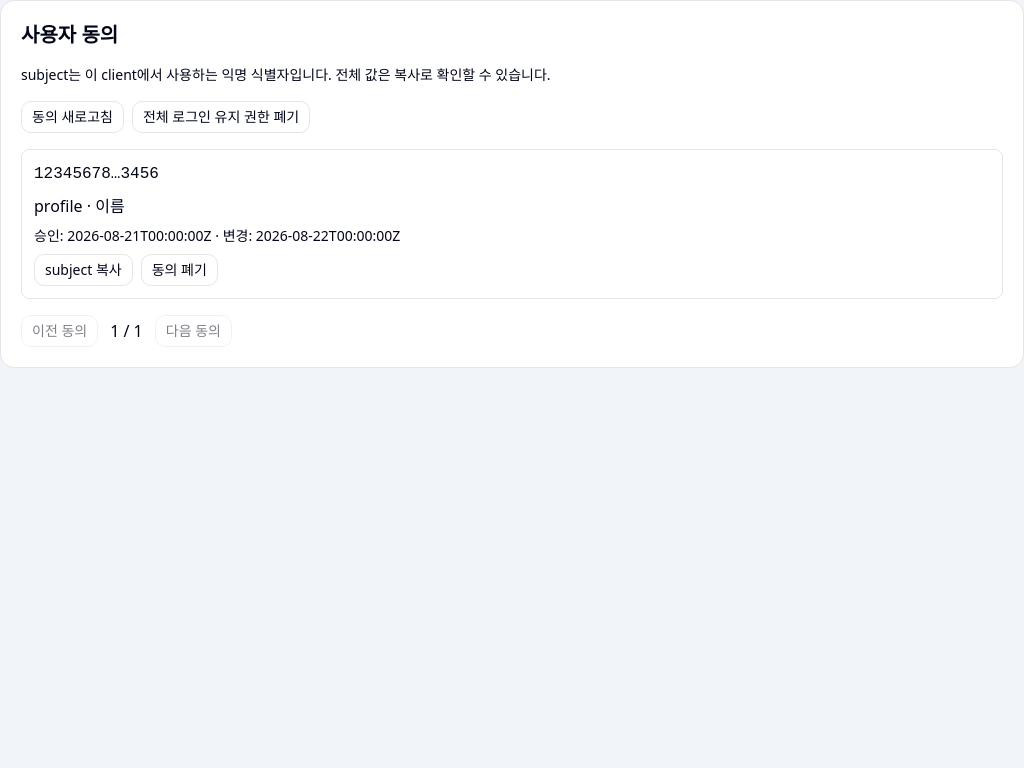
it: keeps failed revocation retryable and never displays raw error details
Step 1. Click the button "동의 폐기" → [179, 270], box 141,254 -> 218,286
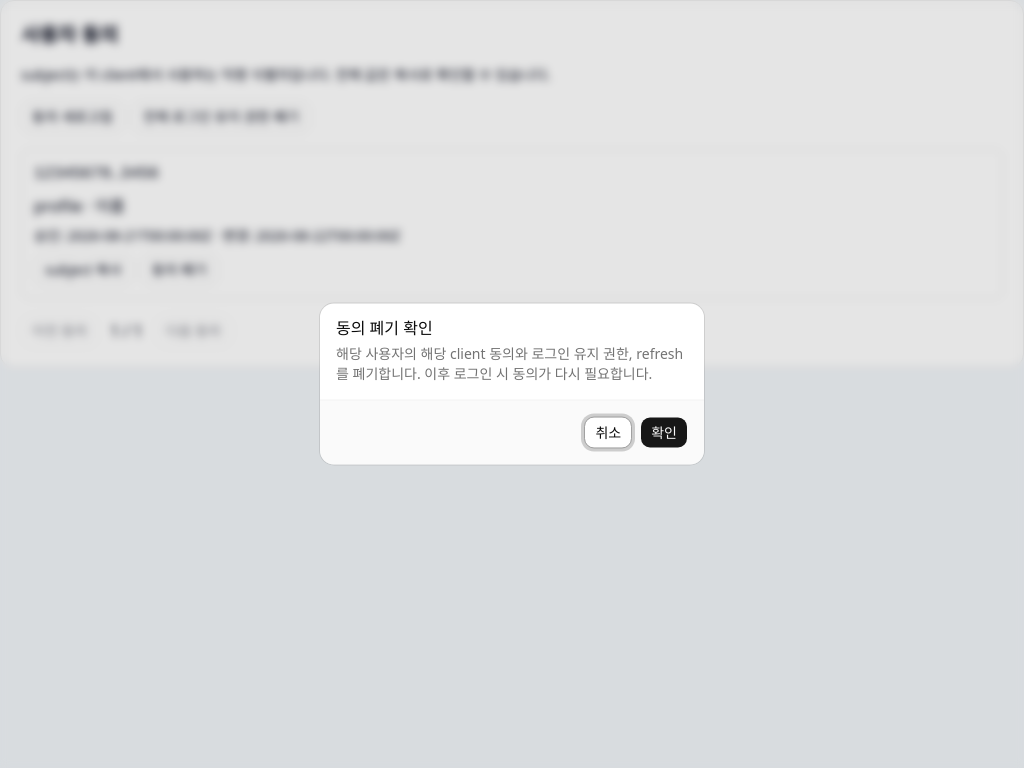
Step 2. Click the button "취소" → [608, 432], box 584,416 -> 632,448
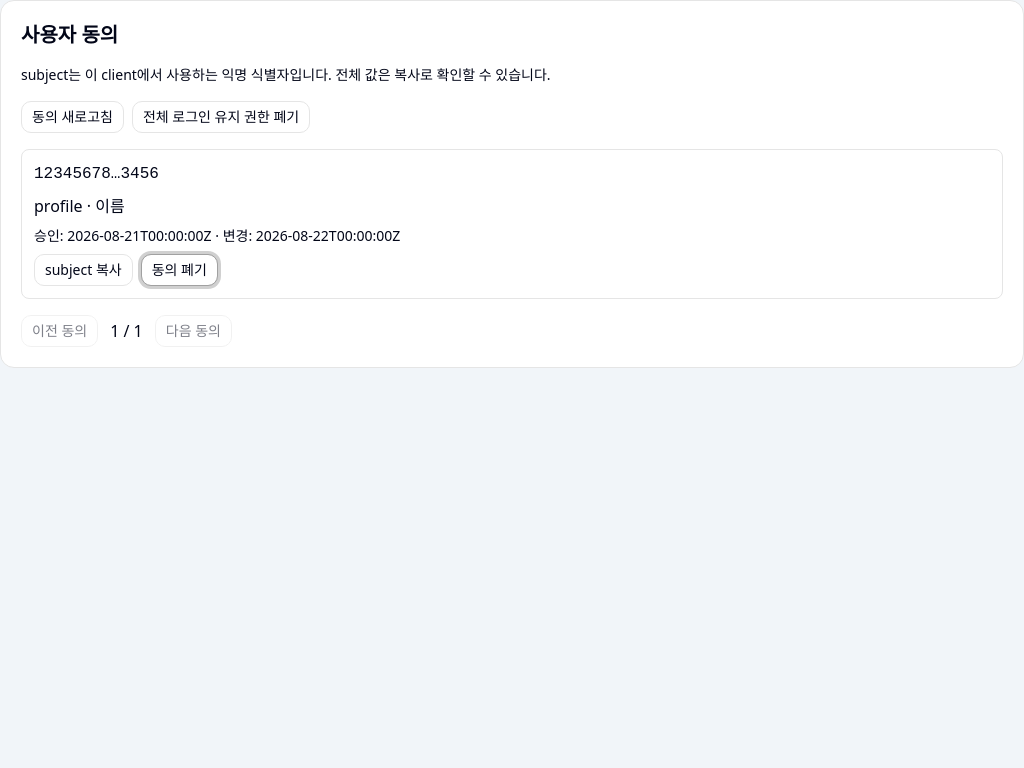
Step 3. Click the button "동의 폐기" → [179, 270], box 141,254 -> 218,286
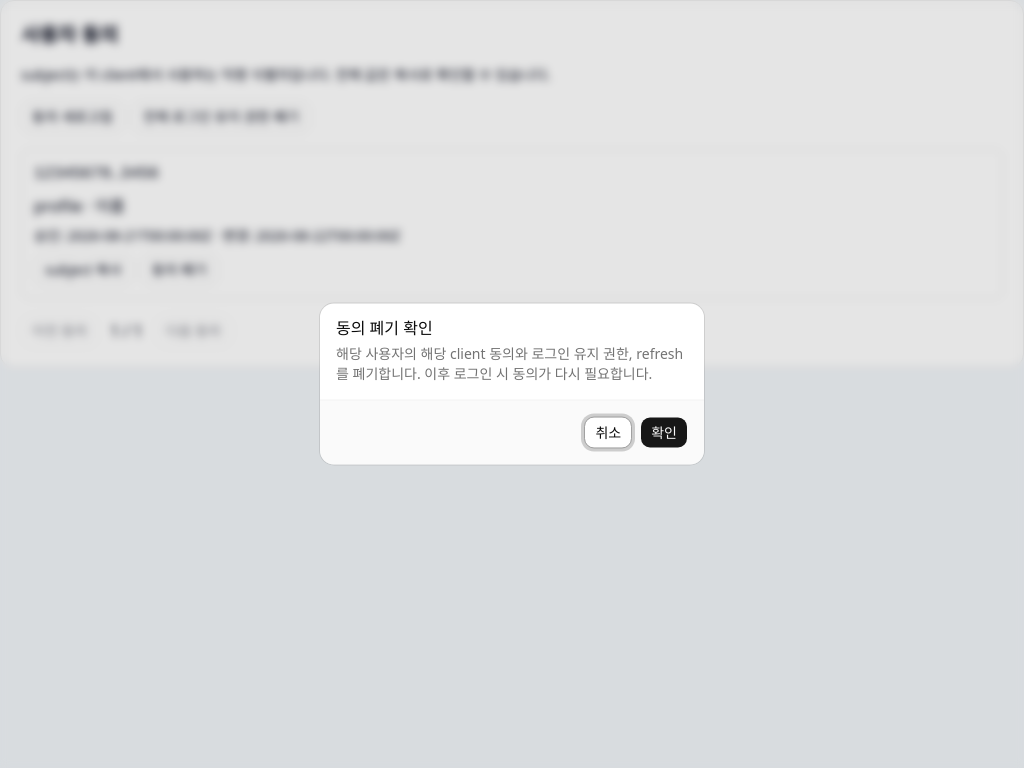
Step 4. Click the button with aria-label "폐기 확인" → [664, 432], box 640,416 -> 688,448
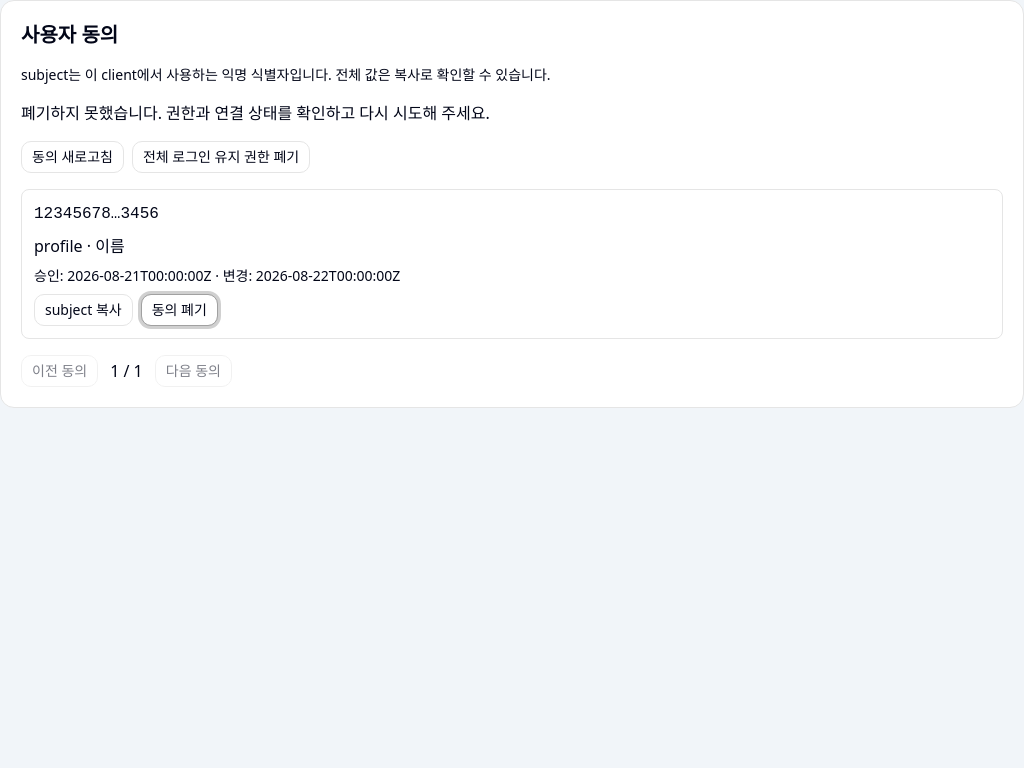
Expected: the button "동의 폐기" is enabled, 141,294 -> 218,326
Now the message shows "폐기하지 못했습니다", box 21,102 -> 490,124
